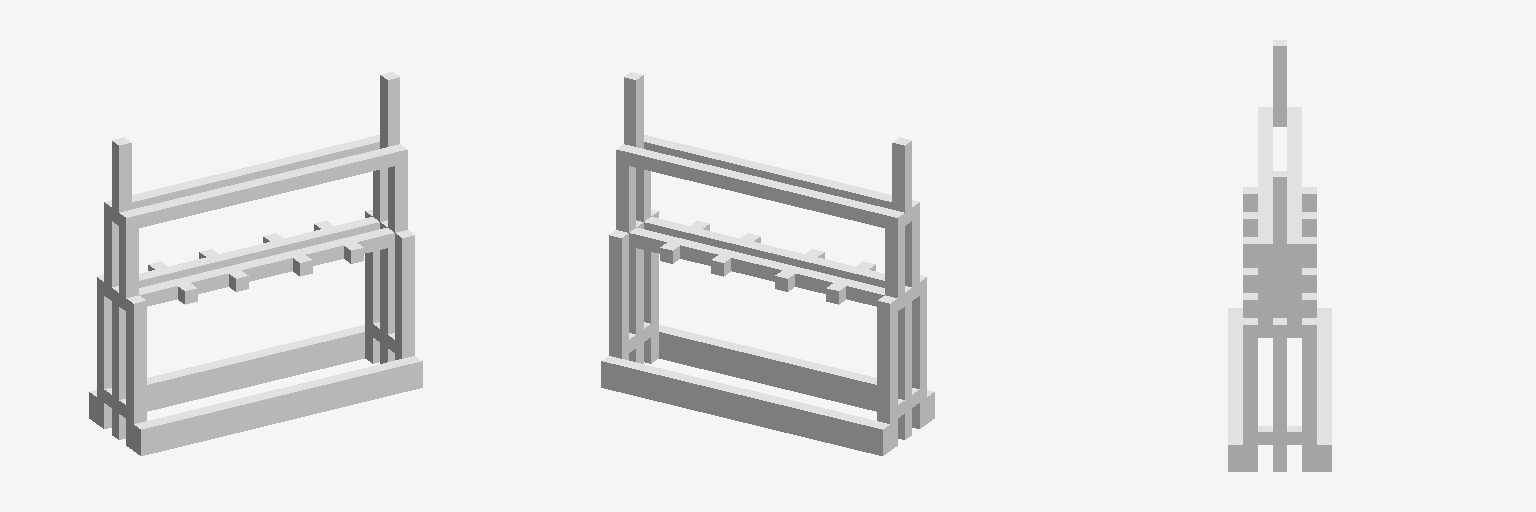
The model's file is sword_rack_empty_2.obj.
3 views of the same model, side by side, from view 1: azimuth 30°, elevation 25°; view 2: azimuth 150°, elevation 25°; view 3: azimuth 270°, elevation 25° (orthographic).
Parts seen in each view (by area): view 1: object 1; view 2: object 1; view 3: object 1.
Boxes of the visible parts, <box> form: object 1: <box>89,72,422,455</box>; object 1: <box>601,72,934,455</box>; object 1: <box>1228,40,1331,471</box>.
Size of the model in its own units: 2.2 by 2.2 by 0.7.